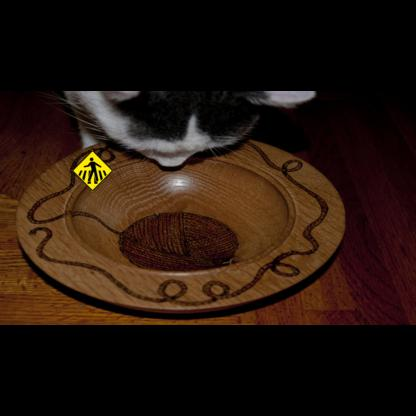A-32b: (72, 150, 113, 191)
